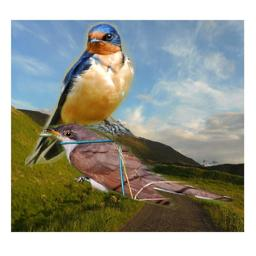Cuckoo: (39, 118, 239, 215)
Swallow: (25, 22, 136, 167)
